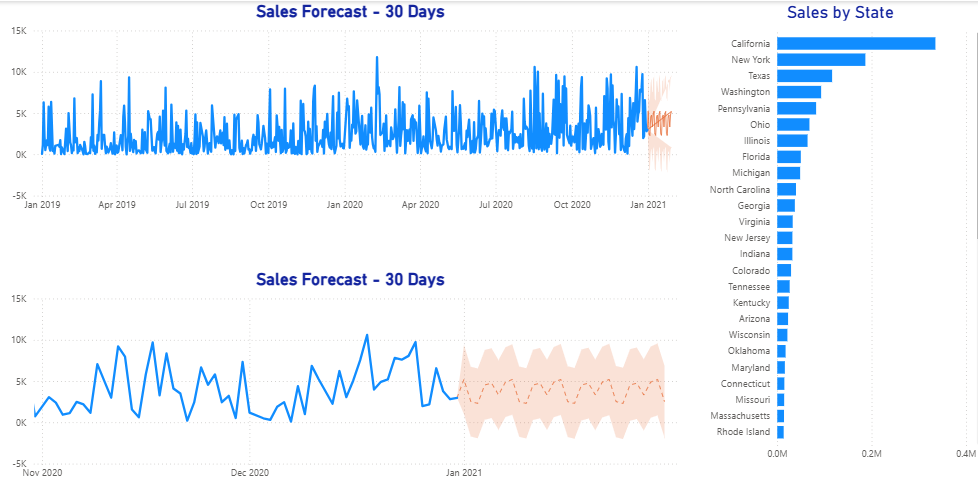

What the dashboard file says about the page in this screenshot:
{"tool":"powerbi","page":{"name":"Page 2","canvas":[1280,720],"ordinal":1},"visuals":[{"type":"lineChart","title":"Sales Forecast - 30 Days","fields":{"Category":["SuperStore_Sales_Dataset.Order Date.Variation.Date Hierarchy.Year","SuperStore_Sales_Dataset.Order Date.Variation.Date Hierarchy.Quarter","SuperStore_Sales_Dataset.Order Date.Variation.Date Hierarchy.Month","SuperStore_Sales_Dataset.Order Date.Variation.Date Hierarchy.Day"],"Y":["Sum(SuperStore_Sales_Dataset.Sales)"]},"box":[10.3,0,882.9,280.2],"z":0},{"type":"lineChart","title":"Sales Forecast - 30 Days","fields":{"Y":["Sum(SuperStore_Sales_Dataset.Sales)"],"Category":["SuperStore_Sales_Dataset.Order Date.Variation.Date Hierarchy.Year","SuperStore_Sales_Dataset.Order Date.Variation.Date Hierarchy.Quarter","SuperStore_Sales_Dataset.Order Date.Variation.Date Hierarchy.Month","SuperStore_Sales_Dataset.Order Date.Variation.Date Hierarchy.Day"]},"box":[10.3,344.4,882.9,280.2],"z":1000},{"type":"clusteredBarChart","title":"Sales by State","fields":{"Y":["Sum(SuperStore_Sales_Dataset.Sales)"],"Category":["SuperStore_Sales_Dataset.State"]},"box":[893.2,1.3,376.5,598.9],"z":2000}]}

Visuals, with their boxes on the page's 1280x720 design canvas (x1, y1, x2, y2). These are canvas units, not pixel positions in the 978x501 screenshot, which may show the page scaled, cropped or inside an application window:
"Sales Forecast - 30 Days" lineChart: pyautogui.locateOnScreen(10, 0, 893, 280)
"Sales Forecast - 30 Days" lineChart: pyautogui.locateOnScreen(10, 344, 893, 625)
"Sales by State" clusteredBarChart: pyautogui.locateOnScreen(893, 1, 1270, 600)
